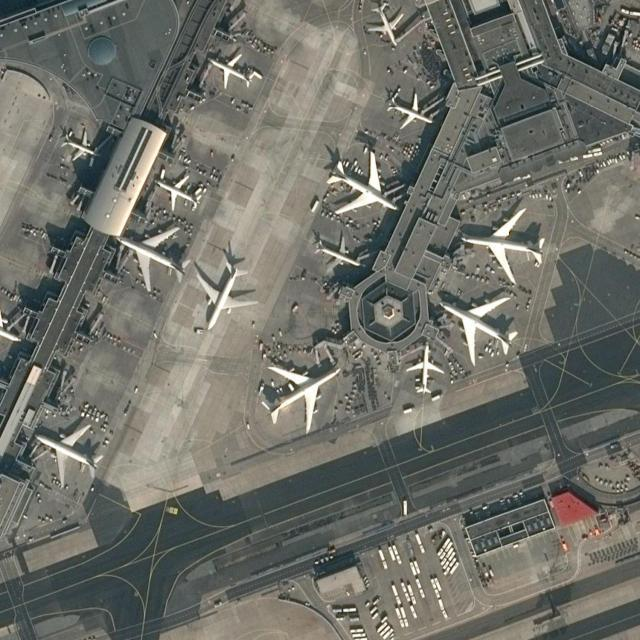Aircraft: (426, 293, 521, 372), (463, 208, 549, 280), (255, 358, 339, 431), (33, 419, 108, 489), (323, 151, 397, 217), (193, 255, 255, 333), (116, 228, 188, 288), (209, 51, 257, 93), (158, 165, 203, 207), (314, 235, 358, 275), (385, 90, 430, 126), (406, 346, 440, 392), (367, 1, 401, 43), (62, 131, 100, 162)
